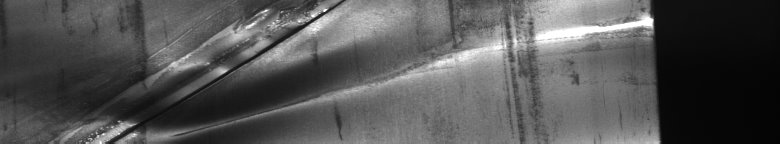ke: (67, 4, 640, 136)
